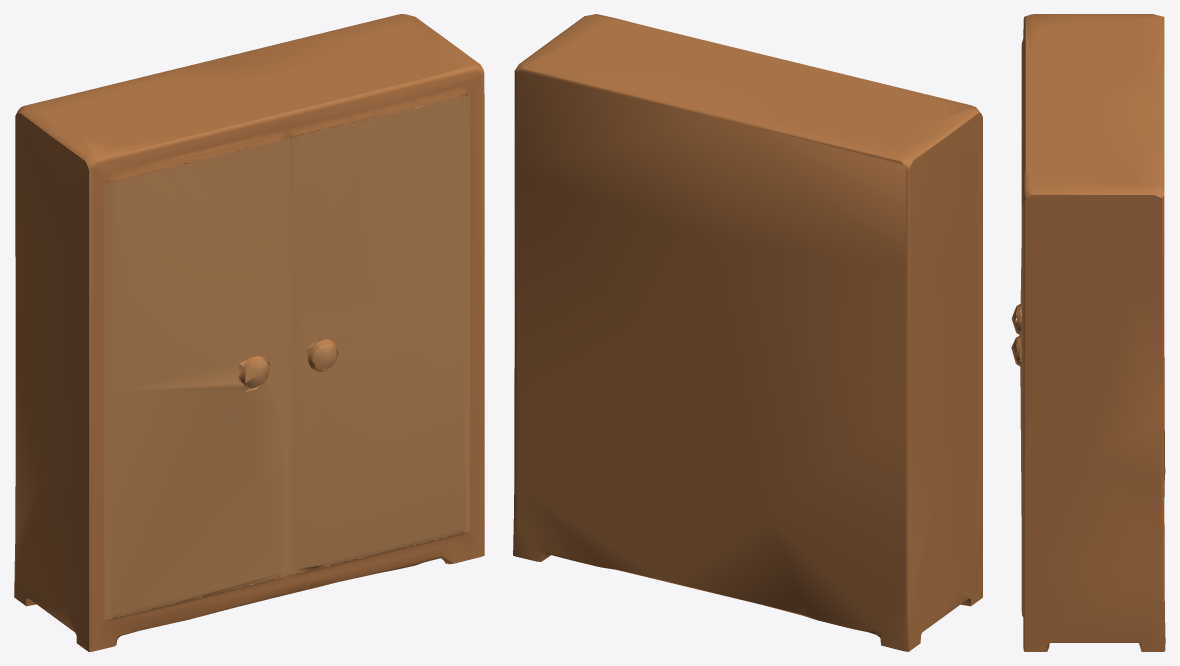
File: wardrobe.glb
3 views of the same model, side by side, from view 1: azimuth 30°, elevation 25°; view 2: azimuth 150°, elevation 25°; view 3: azimuth 270°, elevation 25° (orthographic). The views are drawn at different scales.
Visible parts, largest first — view 1: wardrobe_door, wardrobe_wood; view 2: wardrobe_wood; view 3: wardrobe_wood, wardrobe_door.
Boxes of the visible parts, x1,y1,x2,y2 form: wardrobe_door: (104,92,470,619); wardrobe_wood: (14,14,484,651); wardrobe_wood: (513,14,982,651); wardrobe_wood: (1016,14,1165,651); wardrobe_door: (1011,121,1023,616).
Bounding box in the file's own units: 1.9 × 2.25 × 0.684.
